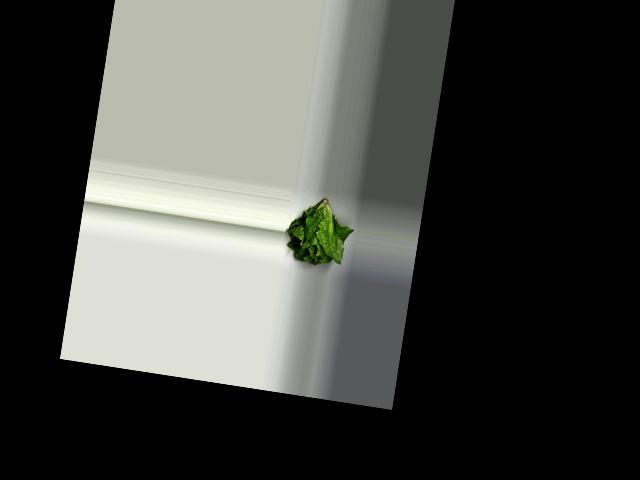lettuce: (283, 192, 357, 270)
